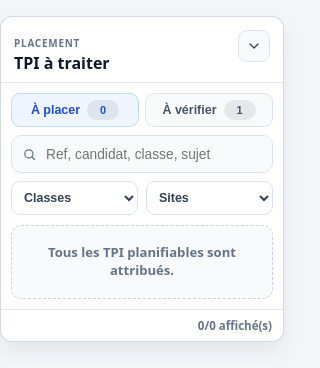
it: TpiAssignmentPanel › affiche les points à vérifier dans l onglet dédié
The width and height of the screenshot is (320, 368).
Click the tab "À vérifier 1".
click(209, 110)  # box [145,93,273,127]
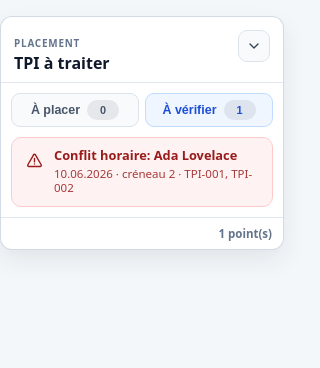
Expected: the list named "Points de planification à vérifier" shows "Ada Lovelace", [54,146,237,164]
Expected: the text "10.06.2026 · créneau 2 · TPI-001, TPI-002" is shown, [54,167,262,196]
